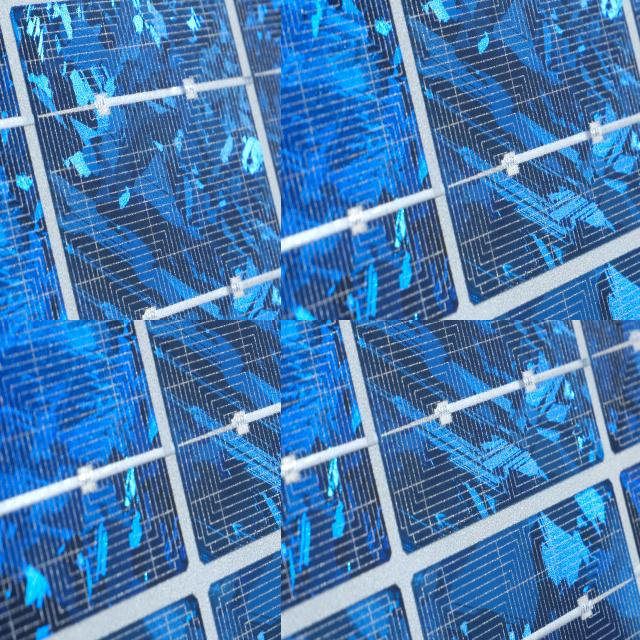crack: (281, 320, 640, 640)
dust: (282, 0, 300, 13), (290, 0, 302, 12), (281, 0, 290, 10), (281, 0, 288, 11), (281, 0, 286, 10)
shadow: (0, 0, 16, 19)
